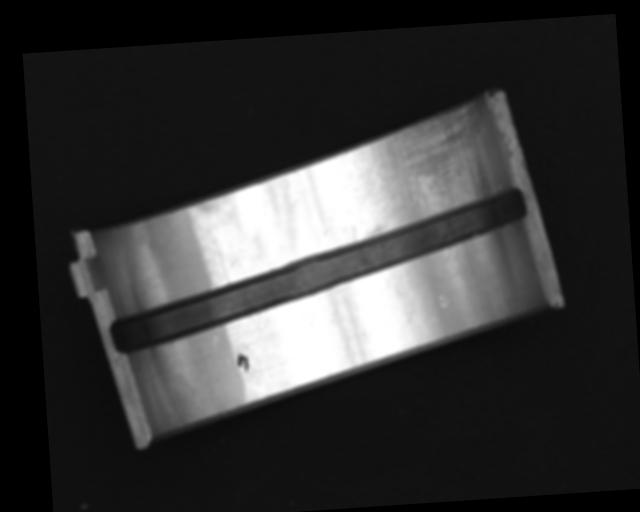blot: (234, 353, 251, 375)
bruise: (437, 294, 448, 308)
gap: (102, 190, 533, 354)
nick: (211, 239, 229, 287)
scratch: (354, 100, 491, 238)
